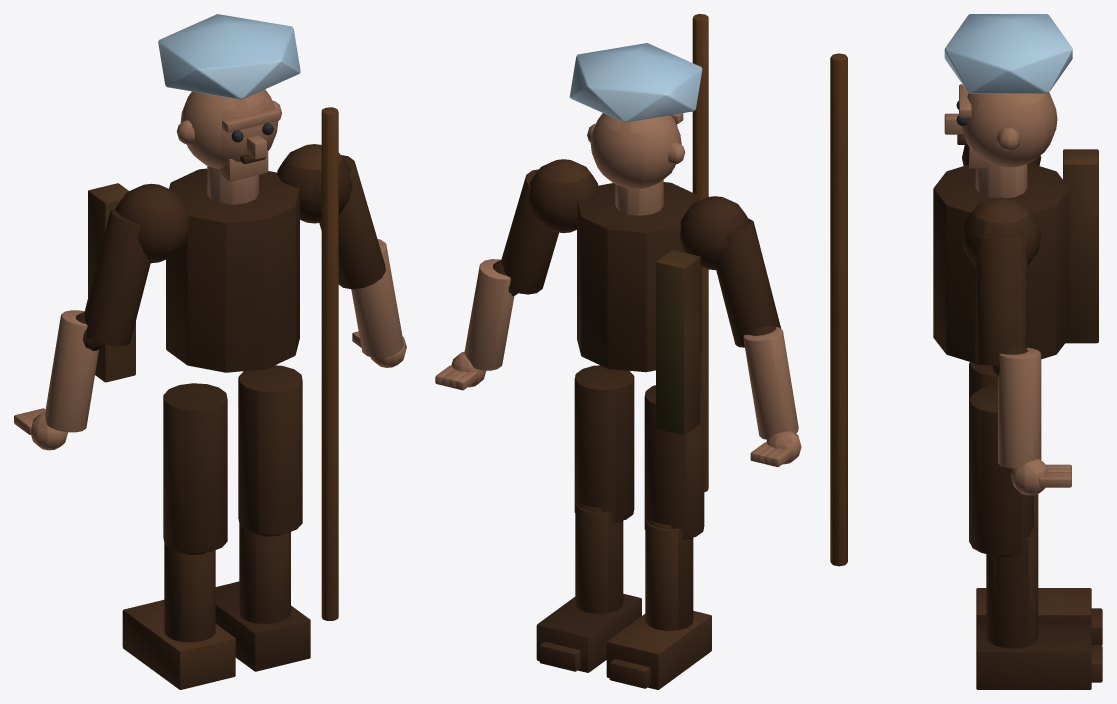
The model's file is unit_outcast_hunter.fbx.
3 renders of one model, left to right at view 1: azimuth 30°, elevation 25°; view 2: azimuth 150°, elevation 25°; view 3: azimuth 270°, elevation 25°, orthographic. The views are drawn at different scales.
Visible parts, largest first — view 1: unit_outcast_hunter; view 2: unit_outcast_hunter; view 3: unit_outcast_hunter.
Part boxes in pixels (bbox=[...]): unit_outcast_hunter: bbox=[14, 14, 406, 689]; unit_outcast_hunter: bbox=[435, 14, 801, 689]; unit_outcast_hunter: bbox=[830, 14, 1102, 689].
Bounding box in the file's own units: 1.18 × 1.95 × 0.7543.
